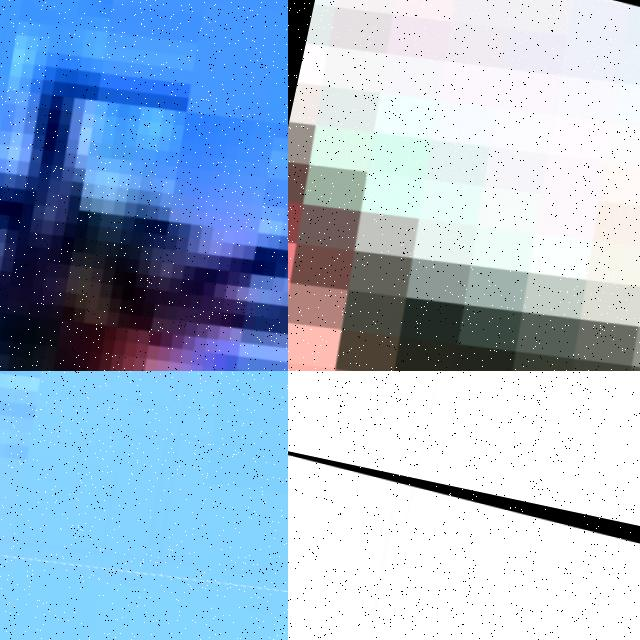0: (0, 0, 288, 371), (0, 371, 288, 633)
drone: (288, 0, 640, 371), (288, 430, 640, 640)
